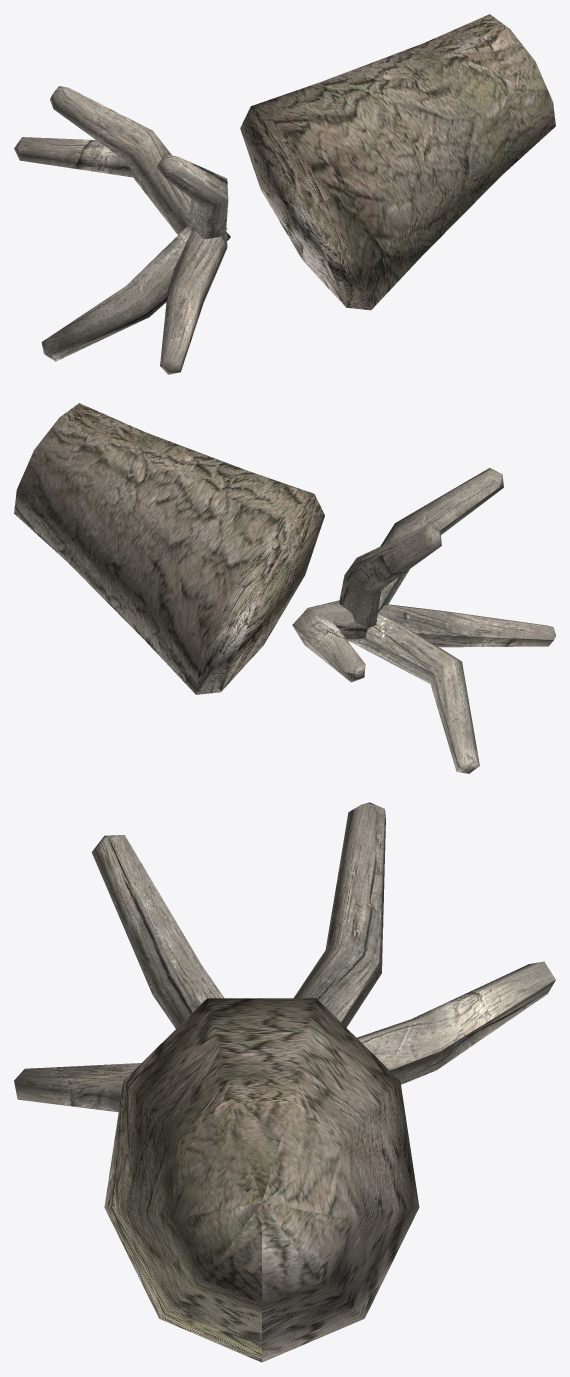
File: sc_drift_stump.glb
3 renders of one model, top to bottom at view 1: azimuth 30°, elevation 25°; view 2: azimuth 150°, elevation 25°; view 3: azimuth 270°, elevation 25°, orthographic. The views are drawn at different scales.
Visible parts, largest first — view 1: sc_drift_stump; view 2: sc_drift_stump; view 3: sc_drift_stump.
Part boxes in pixels (x1,y1,x2,y2): sc_drift_stump: [14, 14, 555, 374]; sc_drift_stump: [14, 403, 555, 773]; sc_drift_stump: [14, 802, 555, 1362].
Bounding box in the file's own units: 0.8738 × 0.4492 × 0.5761.
1 material, 1 textured.
